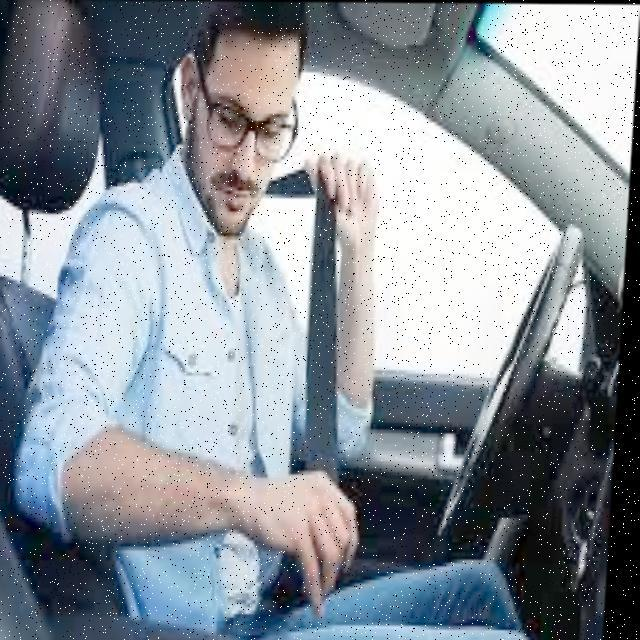seatbelt: (182, 152, 420, 597)
